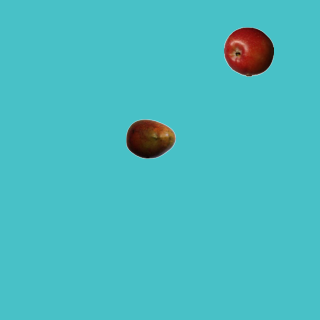Apple Braeburn: (223, 26, 273, 76)
Mango Red: (125, 113, 175, 163)
